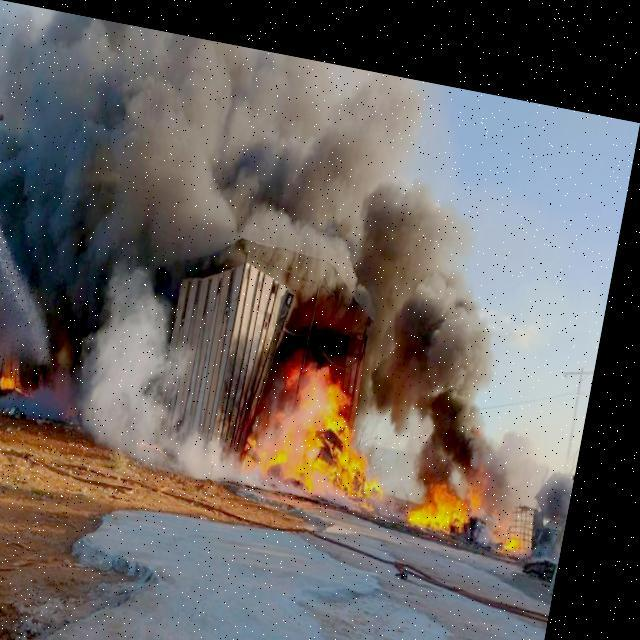Fire: (260, 328, 418, 482), (421, 436, 503, 516), (0, 346, 33, 400), (147, 419, 190, 451), (517, 498, 538, 532)
